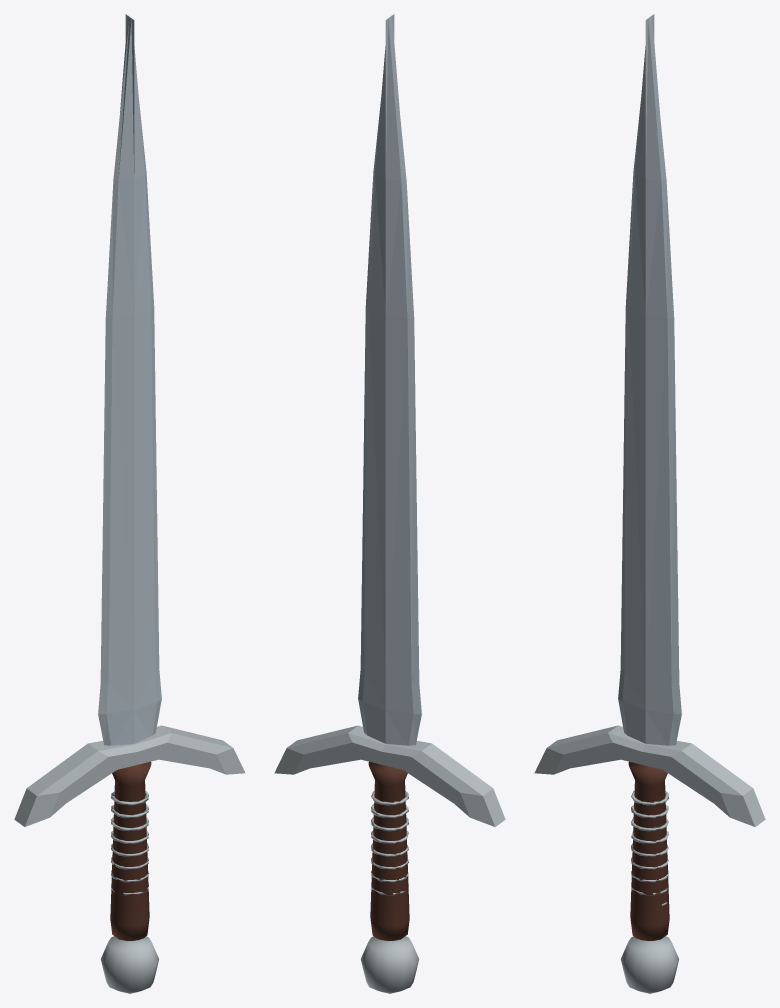
The model's file is iron-sword-standard-low.glb.
3 renders of one model, left to right at view 1: azimuth 30°, elevation 25°; view 2: azimuth 150°, elevation 25°; view 3: azimuth 330°, elevation 25°, orthographic.
Parts seen in each view (by area): view 1: iron-sword__standard; view 2: iron-sword__standard; view 3: iron-sword__standard.
Boxes of the visible parts, <box> form: iron-sword__standard: <box>14,14,245,993</box>; iron-sword__standard: <box>274,14,505,993</box>; iron-sword__standard: <box>534,14,765,993</box>.
Bounding box in the file's own units: 0.27 × 1.14 × 0.062.
